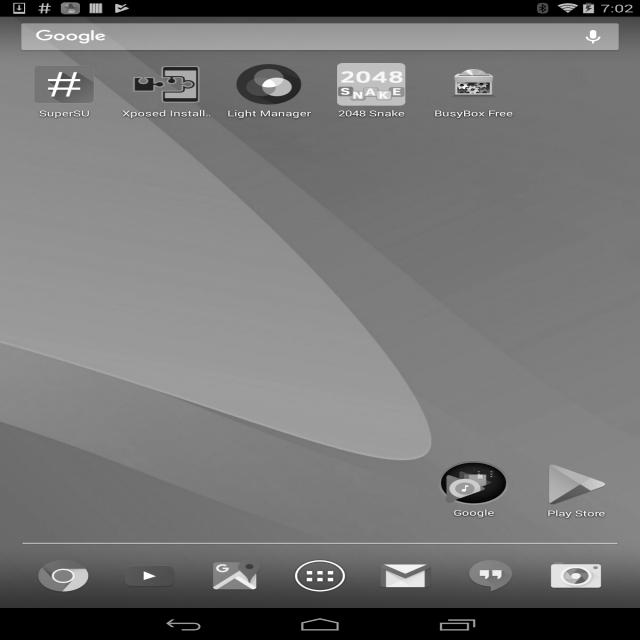EditText: (17, 20, 628, 53)
ImageView: (539, 460, 615, 508), (334, 63, 408, 107), (440, 461, 514, 504), (132, 65, 202, 102), (446, 66, 505, 105), (241, 65, 297, 104), (38, 67, 99, 99), (543, 562, 608, 592), (378, 559, 433, 594), (118, 561, 180, 590), (39, 560, 93, 593), (468, 558, 518, 591), (206, 562, 263, 590)
TextView: (225, 107, 314, 122), (431, 108, 516, 119), (34, 106, 96, 121), (452, 507, 502, 518), (545, 510, 610, 518)
